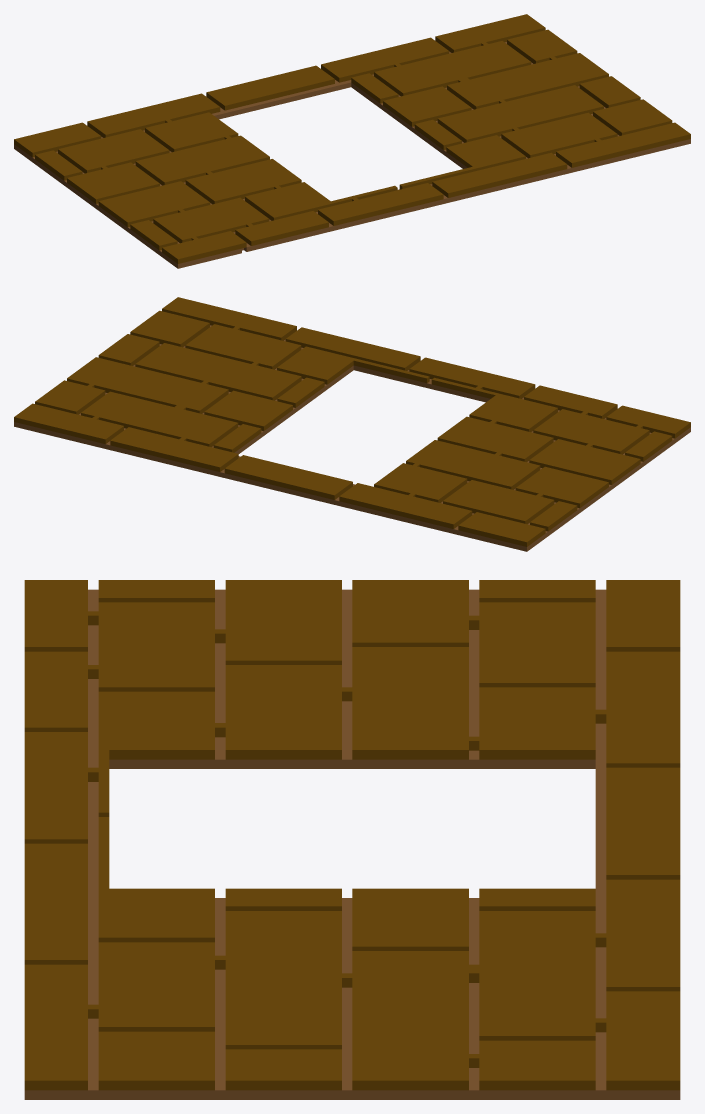
File: table2.obj
3 renders of one model, top to bottom at view 1: azimuth 30°, elevation 25°; view 2: azimuth 150°, elevation 25°; view 3: azimuth 270°, elevation 25°, orthographic. The views are drawn at different scales.
Size of the model in its own units: 112 by 2 by 62.
Materials: 1 (1 with a texture image).
